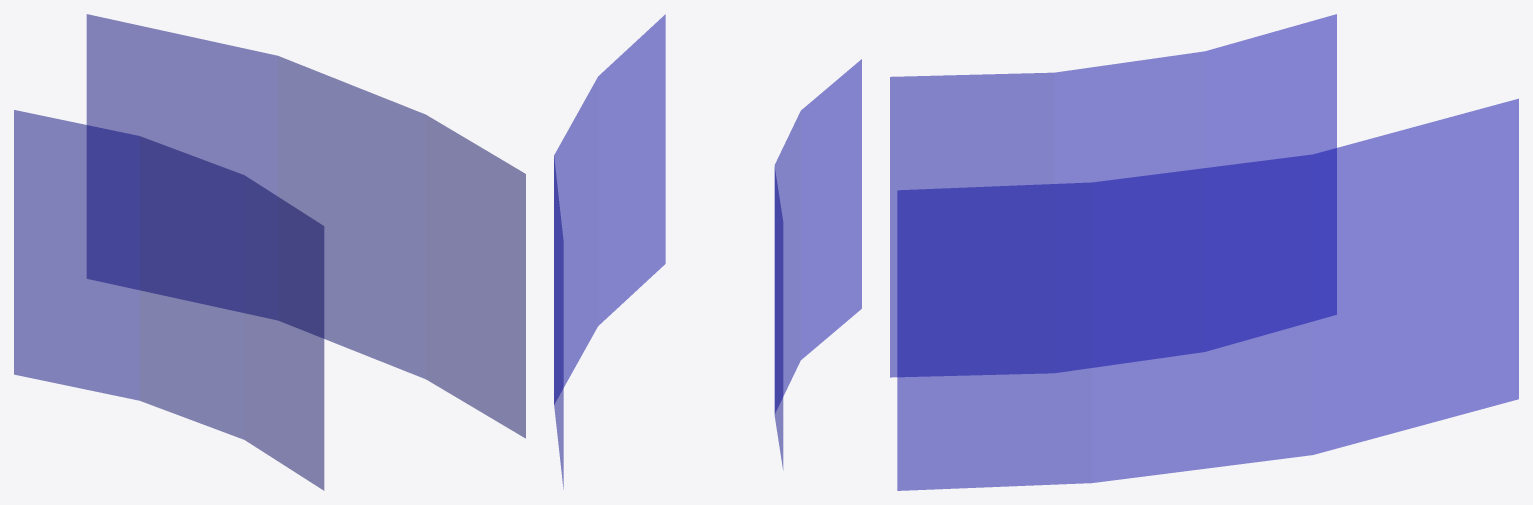
The model's file is track_military_coll_wall_07.fbx.
3 renders of one model, left to right at view 1: azimuth 30°, elevation 25°; view 2: azimuth 150°, elevation 25°; view 3: azimuth 270°, elevation 25°, orthographic. The views are drawn at different scales.
Parts seen in each view (by area): view 1: track_military_coll_wall_07; view 2: track_military_coll_wall_07; view 3: track_military_coll_wall_07.
Part boxes in pixels (x1=…): track_military_coll_wall_07: x1=14, y1=14, x2=525, y2=490; track_military_coll_wall_07: x1=554, y1=14, x2=861, y2=489; track_military_coll_wall_07: x1=890, y1=14, x2=1518, y2=490.
Bounding box in the file's own units: 39.87 × 31.71 × 60.09.
